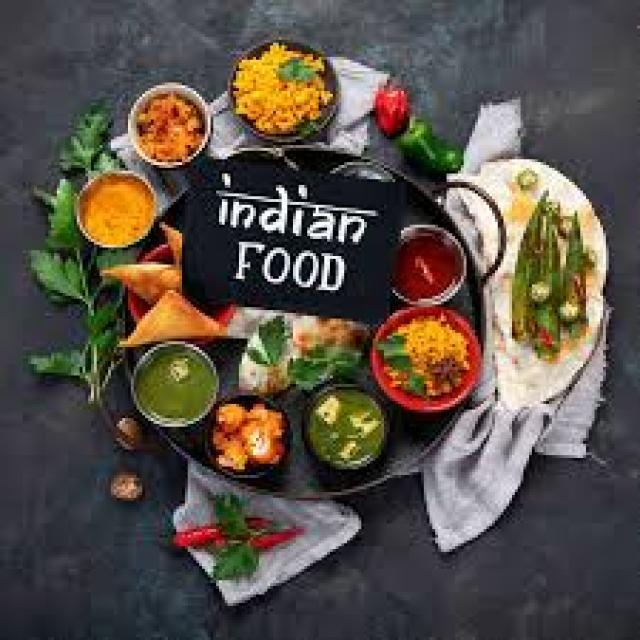papad: (420, 397, 538, 550)
pickle: (126, 85, 214, 162), (363, 81, 419, 144), (102, 457, 160, 513)
rice: (227, 33, 350, 143), (371, 302, 485, 416)
sweet: (385, 225, 467, 311)
veg-fry: (226, 31, 349, 145)
